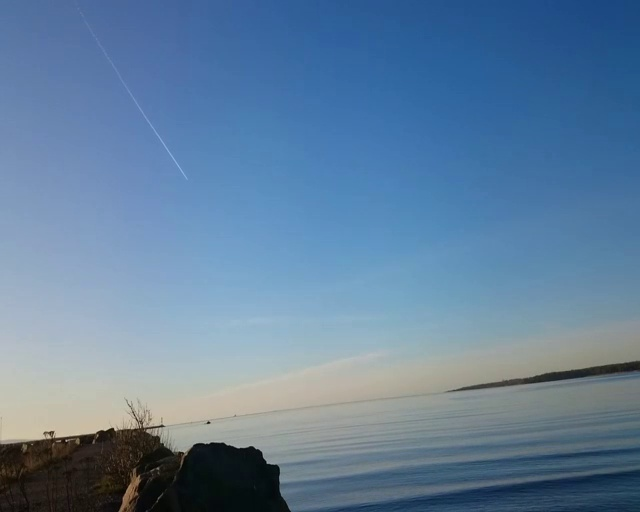AIRPLANE: (56, 2, 192, 185)
